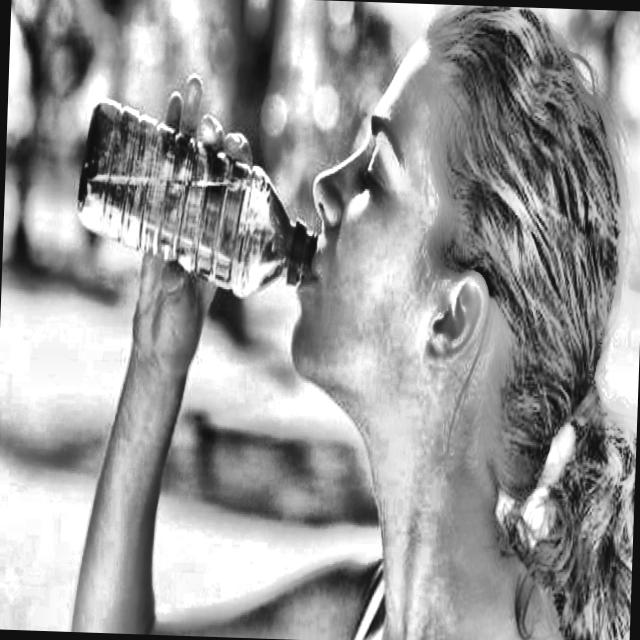waterbottle: (70, 90, 327, 323)
